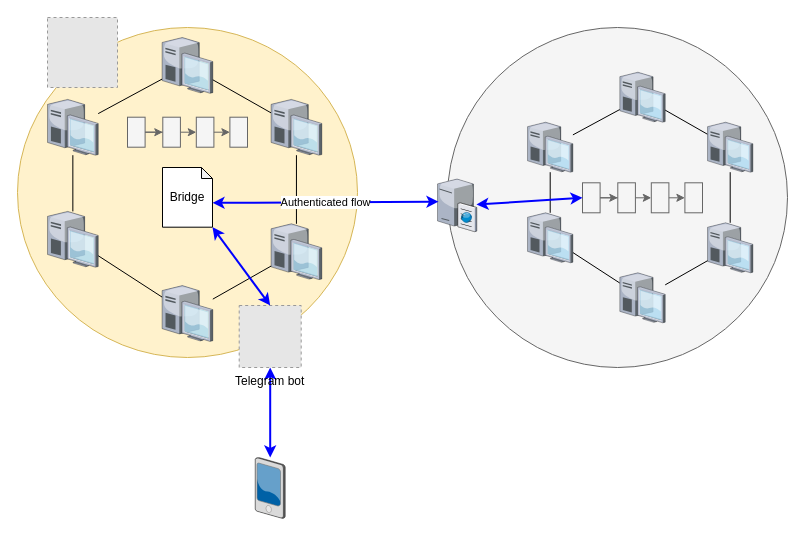
Image size: 805x560. Some labels were removed from this diagram. Grey dashed boxes stand in for pictures. Here are the shapes that lost their labels. From the top down, the box of each, then its label:
(437, 177, 476, 231): Listener
(255, 457, 285, 518): Client
